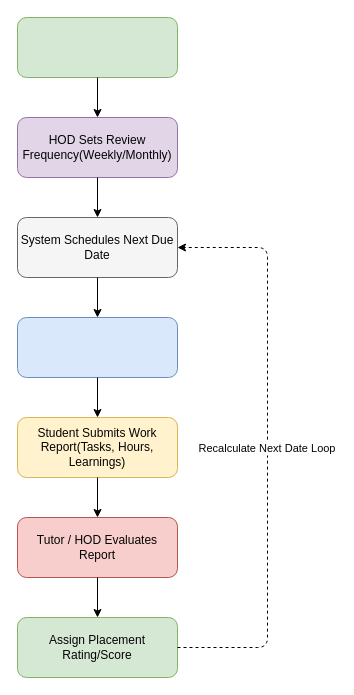
Some shapes in this 354 by 695 pixel diagram are drawn without their labels. Each missing label, with the box of its shape:
Internship Request Approved: (16, 16, 178, 78)
Student Dashboard Notification: (16, 316, 178, 378)
